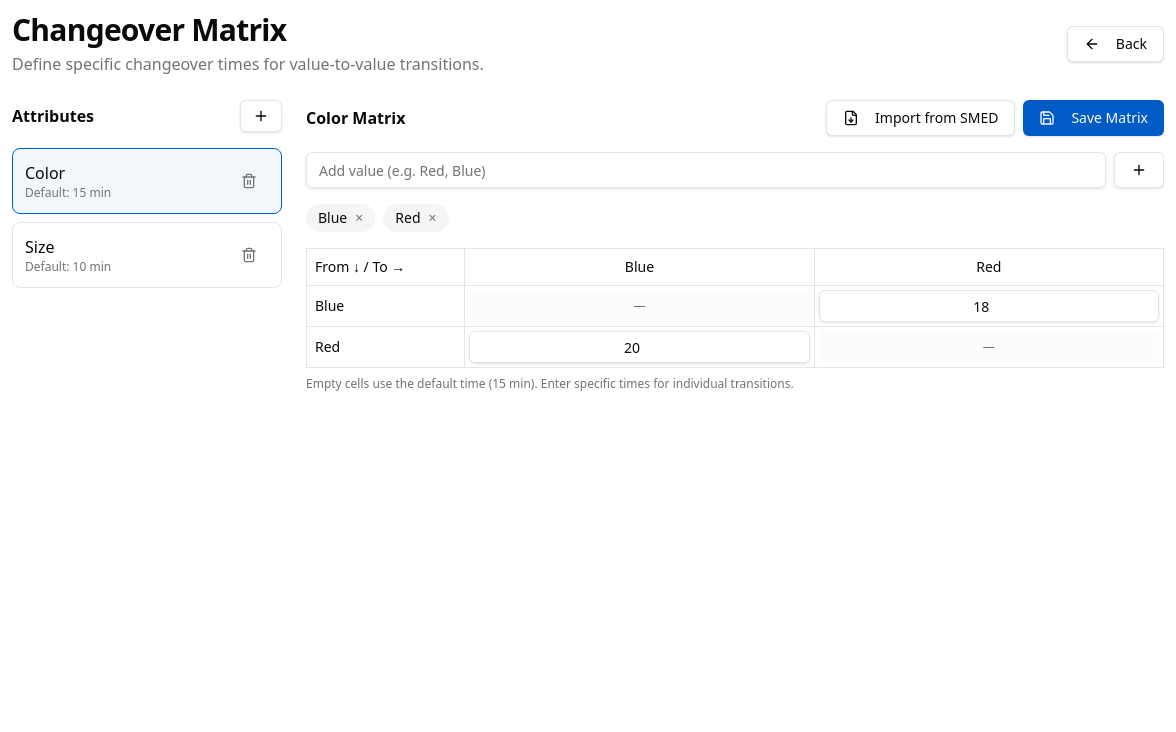
ChangeoverMatrixScreen › Adding New Attribute › should show new attribute form when add button is clicked
This screenshot has width=1176, height=732.
Expected: the heading "Attributes" is shown, [12, 104, 94, 128]
Click the button without text next to "Attributes".
click(261, 116)  # box [240, 100, 282, 132]
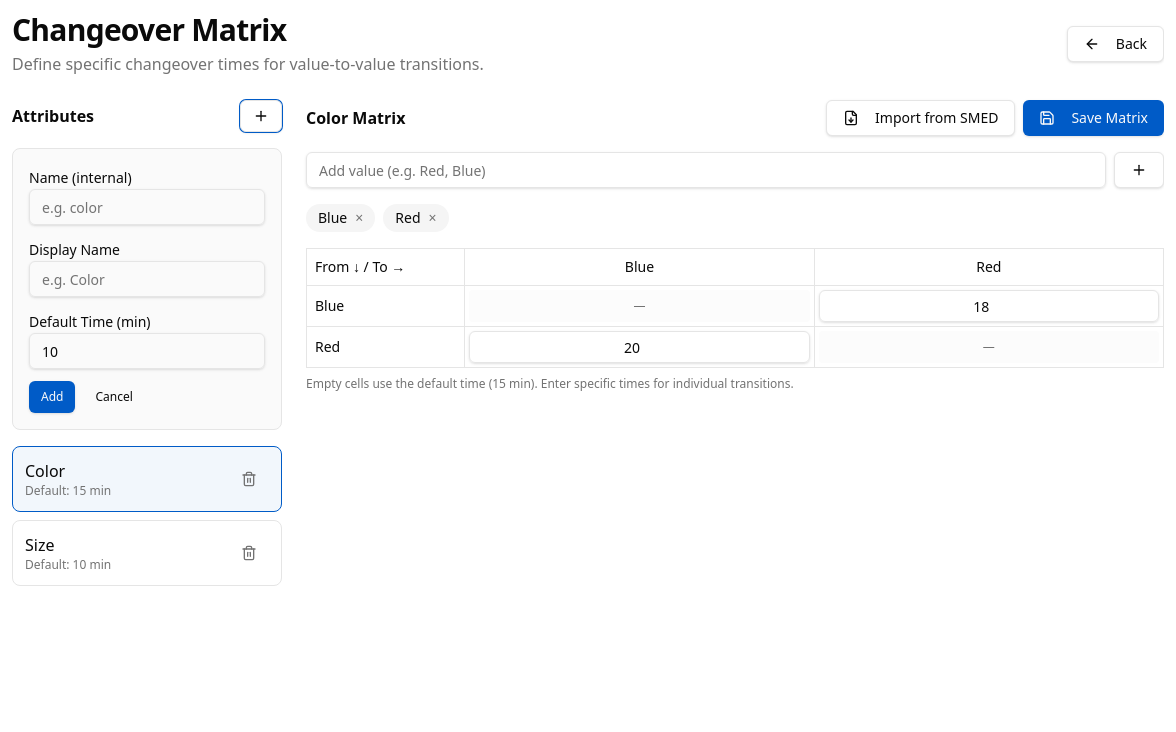
Now the text "Name (internal)" is shown, box [29, 168, 132, 187]
Now the text "Display Name" is shown, box [29, 240, 120, 259]
Now the text "Default Time (min)" is shown, box [29, 312, 150, 331]
